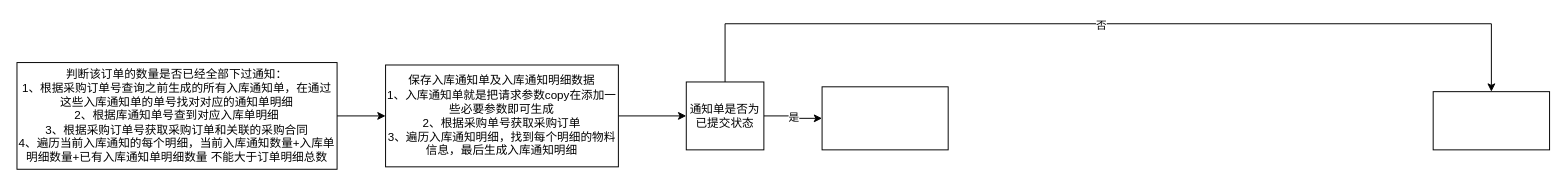
Image size: 1567x186. Some labels were removed from this diagram. Each missing label, with the centre of its shape:
根据入库通知单号判断是否有入库单明细，也就是判断该通知单是否已经生成过单子: [884,118]
结束前的job方法: [1491,120]
